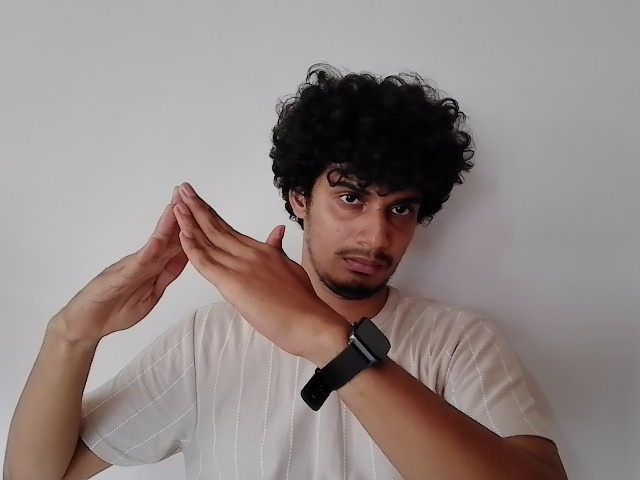home: (57, 177, 319, 346)
